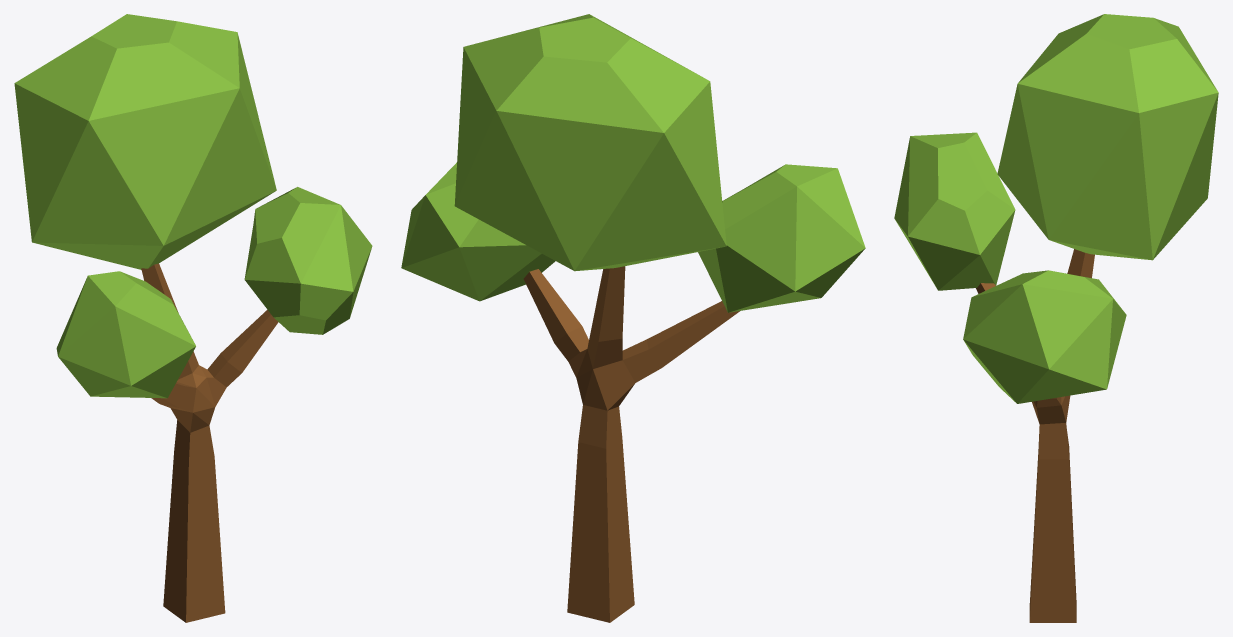
Rendered from Pohon2.fbx.
3 views of the same model, side by side, from view 1: azimuth 30°, elevation 25°; view 2: azimuth 150°, elevation 25°; view 3: azimuth 270°, elevation 25° (orthographic). The views are drawn at different scales.
Parts seen in each view (by area): view 1: tree_5c; view 2: tree_5c; view 3: tree_5c.
Part boxes in pixels (<box>): tree_5c: <box>14,14,372,622</box>; tree_5c: <box>401,14,865,622</box>; tree_5c: <box>894,14,1218,622</box>.
Bounding box in the file's own units: 430 × 625 × 320.
